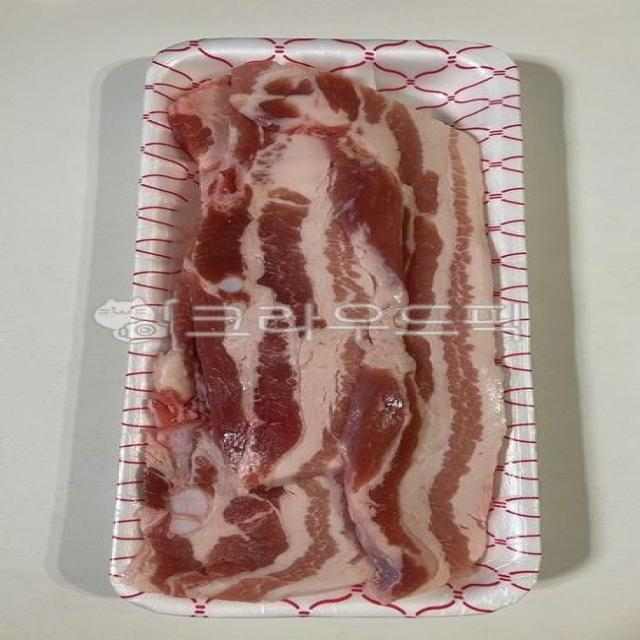pork: (46, 27, 600, 620)
